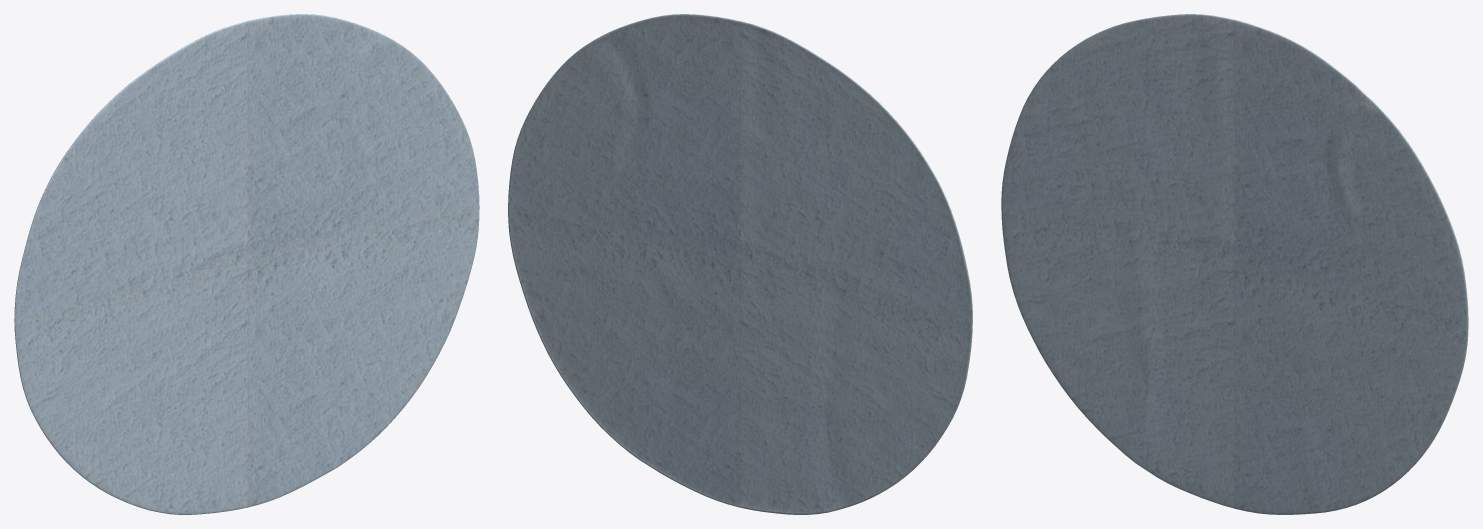
The model's file is Tapete.fbx.
3 views of the same model, side by side, from view 1: azimuth 30°, elevation 25°; view 2: azimuth 150°, elevation 25°; view 3: azimuth 330°, elevation 25° (orthographic).
Parts seen in each view (by area): view 1: Tapete; view 2: Tapete; view 3: Tapete.
Part boxes in pixels (box(x1,y1,x2,y2)): Tapete: box(14, 14, 479, 514); Tapete: box(508, 14, 972, 514); Tapete: box(1001, 14, 1468, 514).
Size of the model in its own units: 25.4 by 25.4 by 0.1757.
1 material, 1 textured.
